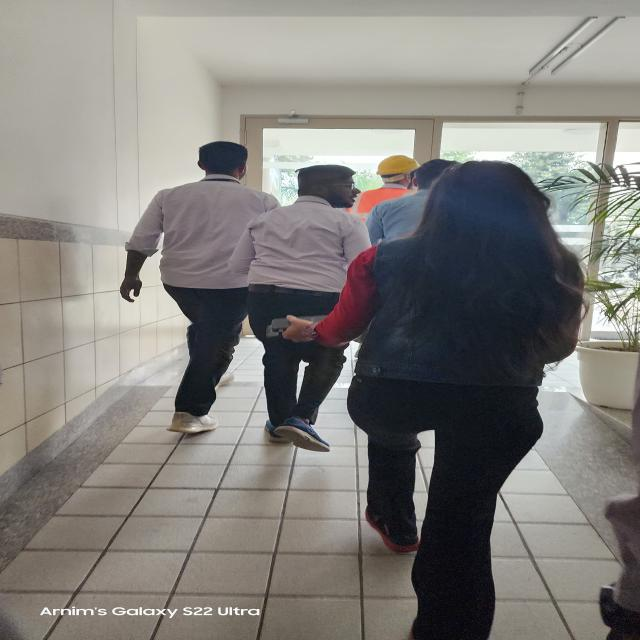unsafe: (309, 157, 595, 640), (251, 162, 357, 457), (120, 136, 225, 412)
